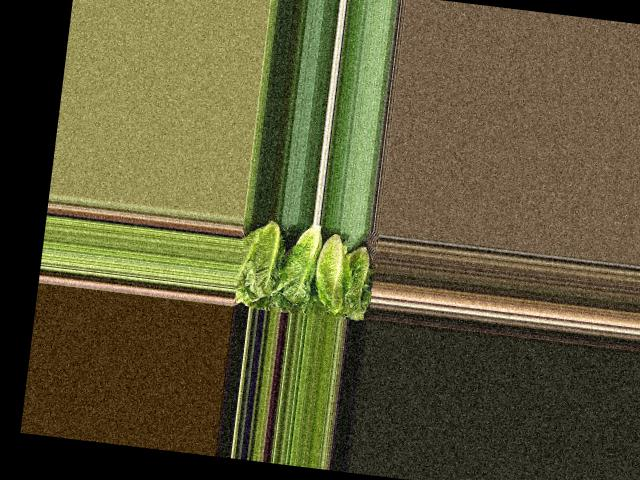lettuce: (341, 247, 371, 321)
